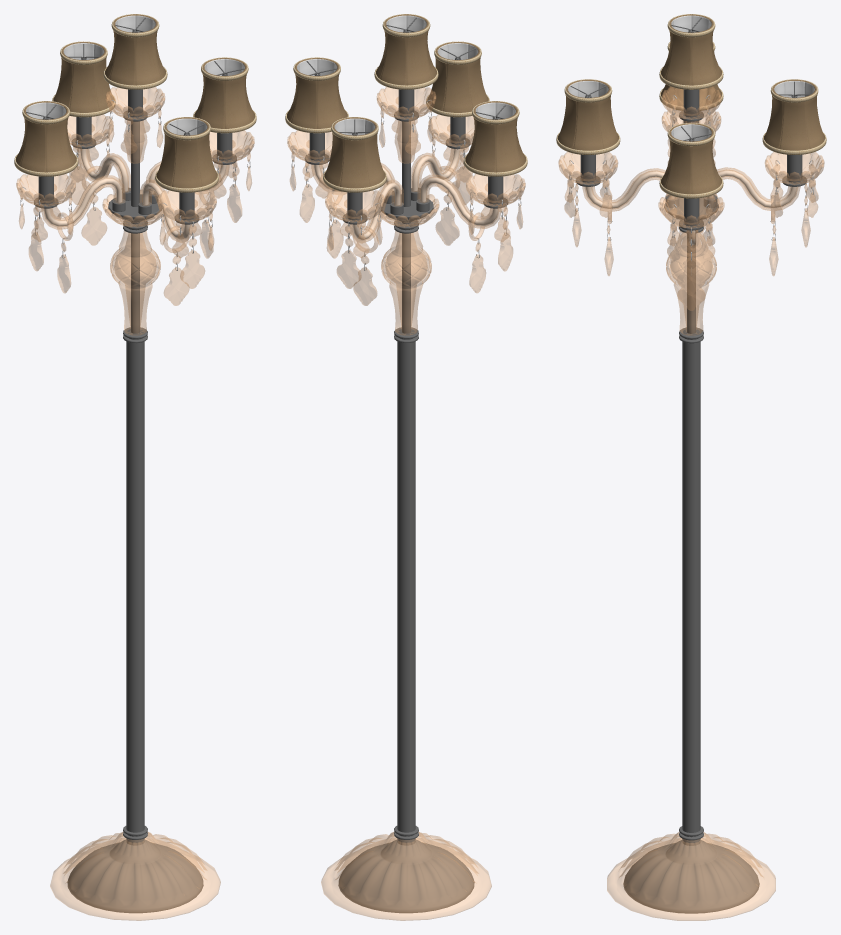
Rendered from Floor Lamp4.glb.
3 renders of one model, left to right at view 1: azimuth 30°, elevation 25°; view 2: azimuth 150°, elevation 25°; view 3: azimuth 270°, elevation 25°, orthographic.
Parts seen in each view (by area): view 1: Rectangle013_Glass_Crystal_Kognaq_Simple_0, Shtur_lusra_osnova005_Metall_dark_hrom_0, Rectangle014_Metall_dark_hrom_0, Lustra_osnova_glass_003_Glass_Crystal_Kognaq_Simple_0, Plafon_tkan_141_Plafon_tkan_snarugi_0, Plafon_tkan_021_Plafon_tkan_snarugi_0, Plafon_tkan_020_Plafon_tkan_snarugi_0, Plafon_tkan_139_Plafon_tkan_snarugi_0, Plafon_tkan_140_Plafon_tkan_snarugi_0, Shtur_lusra_osnova004_Metall_dark_hrom_0, Rectangle012_Glass_Crystal_Kognaq_Simple_0, Plafon_Chasha_029_Glass_Crystal_Kognaq_Simple_0 (+25 smaller); view 2: Rectangle013_Glass_Crystal_Kognaq_Simple_0, Shtur_lusra_osnova005_Metall_dark_hrom_0, Rectangle014_Metall_dark_hrom_0, Lustra_osnova_glass_003_Glass_Crystal_Kognaq_Simple_0, Plafon_tkan_139_Plafon_tkan_snarugi_0, Plafon_tkan_021_Plafon_tkan_snarugi_0, Plafon_tkan_020_Plafon_tkan_snarugi_0, Plafon_tkan_141_Plafon_tkan_snarugi_0, Plafon_tkan_140_Plafon_tkan_snarugi_0, Shtur_lusra_osnova004_Metall_dark_hrom_0, Rectangle012_Glass_Crystal_Kognaq_Simple_0, Plafon_Chasha_029_Glass_Crystal_Kognaq_Simple_0 (+25 smaller); view 3: Rectangle013_Glass_Crystal_Kognaq_Simple_0, Shtur_lusra_osnova005_Metall_dark_hrom_0, Rectangle014_Metall_dark_hrom_0, Lustra_osnova_glass_003_Glass_Crystal_Kognaq_Simple_0, Plafon_tkan_139_Plafon_tkan_snarugi_0, Plafon_tkan_141_Plafon_tkan_snarugi_0, Plafon_tkan_021_Plafon_tkan_snarugi_0, Plafon_tkan_140_Plafon_tkan_snarugi_0, Plafon_Chasha_030_Glass_Crystal_Kognaq_Simple_0, Plafon_Chasha_119_Glass_Crystal_Kognaq_Simple_0, Plafon_Chasha_120_Glass_Crystal_Kognaq_Simple_0, Plafon_Chasha_121_Glass_Crystal_Kognaq_Simple_0 (+12 smaller).
Part boxes in pixels (x1,y1,x2,y2): Rectangle013_Glass_Crystal_Kognaq_Simple_0: (50, 832, 220, 920); Shtur_lusra_osnova005_Metall_dark_hrom_0: (126, 341, 144, 845); Rectangle014_Metall_dark_hrom_0: (67, 840, 203, 913); Lustra_osnova_glass_003_Glass_Crystal_Kognaq_Simple_0: (110, 231, 160, 335); Plafon_tkan_141_Plafon_tkan_snarugi_0: (156, 117, 217, 188); Plafon_tkan_021_Plafon_tkan_snarugi_0: (105, 14, 165, 85); Plafon_tkan_020_Plafon_tkan_snarugi_0: (16, 101, 76, 172); Plafon_tkan_139_Plafon_tkan_snarugi_0: (53, 42, 114, 112); Plafon_tkan_140_Plafon_tkan_snarugi_0: (194, 58, 254, 128); Shtur_lusra_osnova004_Metall_dark_hrom_0: (131, 121, 139, 333); Rectangle012_Glass_Crystal_Kognaq_Simple_0: (41, 175, 125, 229); Plafon_Chasha_029_Glass_Crystal_Kognaq_Simple_0: (16, 174, 75, 206); Rectangle013_Glass_Crystal_Kognaq_Simple_0: (321, 832, 491, 920); Shtur_lusra_osnova005_Metall_dark_hrom_0: (397, 341, 415, 845); Rectangle014_Metall_dark_hrom_0: (338, 840, 474, 913); Lustra_osnova_glass_003_Glass_Crystal_Kognaq_Simple_0: (381, 231, 431, 335); Plafon_tkan_139_Plafon_tkan_snarugi_0: (324, 117, 385, 188); Plafon_tkan_021_Plafon_tkan_snarugi_0: (376, 14, 436, 85); Plafon_tkan_020_Plafon_tkan_snarugi_0: (465, 101, 525, 172); Plafon_tkan_141_Plafon_tkan_snarugi_0: (427, 42, 488, 112); Plafon_tkan_140_Plafon_tkan_snarugi_0: (287, 58, 347, 128); Shtur_lusra_osnova004_Metall_dark_hrom_0: (402, 121, 410, 333); Rectangle012_Glass_Crystal_Kognaq_Simple_0: (417, 175, 501, 228); Plafon_Chasha_029_Glass_Crystal_Kognaq_Simple_0: (466, 174, 525, 206); Rectangle013_Glass_Crystal_Kognaq_Simple_0: (607, 832, 775, 920); Shtur_lusra_osnova005_Metall_dark_hrom_0: (682, 342, 700, 845); Rectangle014_Metall_dark_hrom_0: (623, 840, 759, 913); Lustra_osnova_glass_003_Glass_Crystal_Kognaq_Simple_0: (666, 231, 716, 335); Plafon_tkan_139_Plafon_tkan_snarugi_0: (764, 79, 825, 150); Plafon_tkan_141_Plafon_tkan_snarugi_0: (557, 79, 618, 150); Plafon_tkan_021_Plafon_tkan_snarugi_0: (661, 14, 721, 85); Plafon_tkan_140_Plafon_tkan_snarugi_0: (661, 123, 721, 194); Plafon_Chasha_030_Glass_Crystal_Kognaq_Simple_0: (662, 86, 720, 119); Plafon_Chasha_119_Glass_Crystal_Kognaq_Simple_0: (765, 152, 824, 184); Plafon_Chasha_120_Glass_Crystal_Kognaq_Simple_0: (661, 195, 721, 228); Plafon_Chasha_121_Glass_Crystal_Kognaq_Simple_0: (558, 152, 617, 184).
Size of the model in its own units: 474 by 1667 by 474.
Materials: 10 (2 with a texture image).
